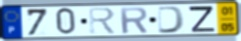0: (54, 7, 78, 37)
7: (25, 8, 50, 37)
D: (156, 5, 187, 34)
R: (118, 6, 149, 35), (87, 7, 118, 35)
Z: (187, 5, 217, 33)
